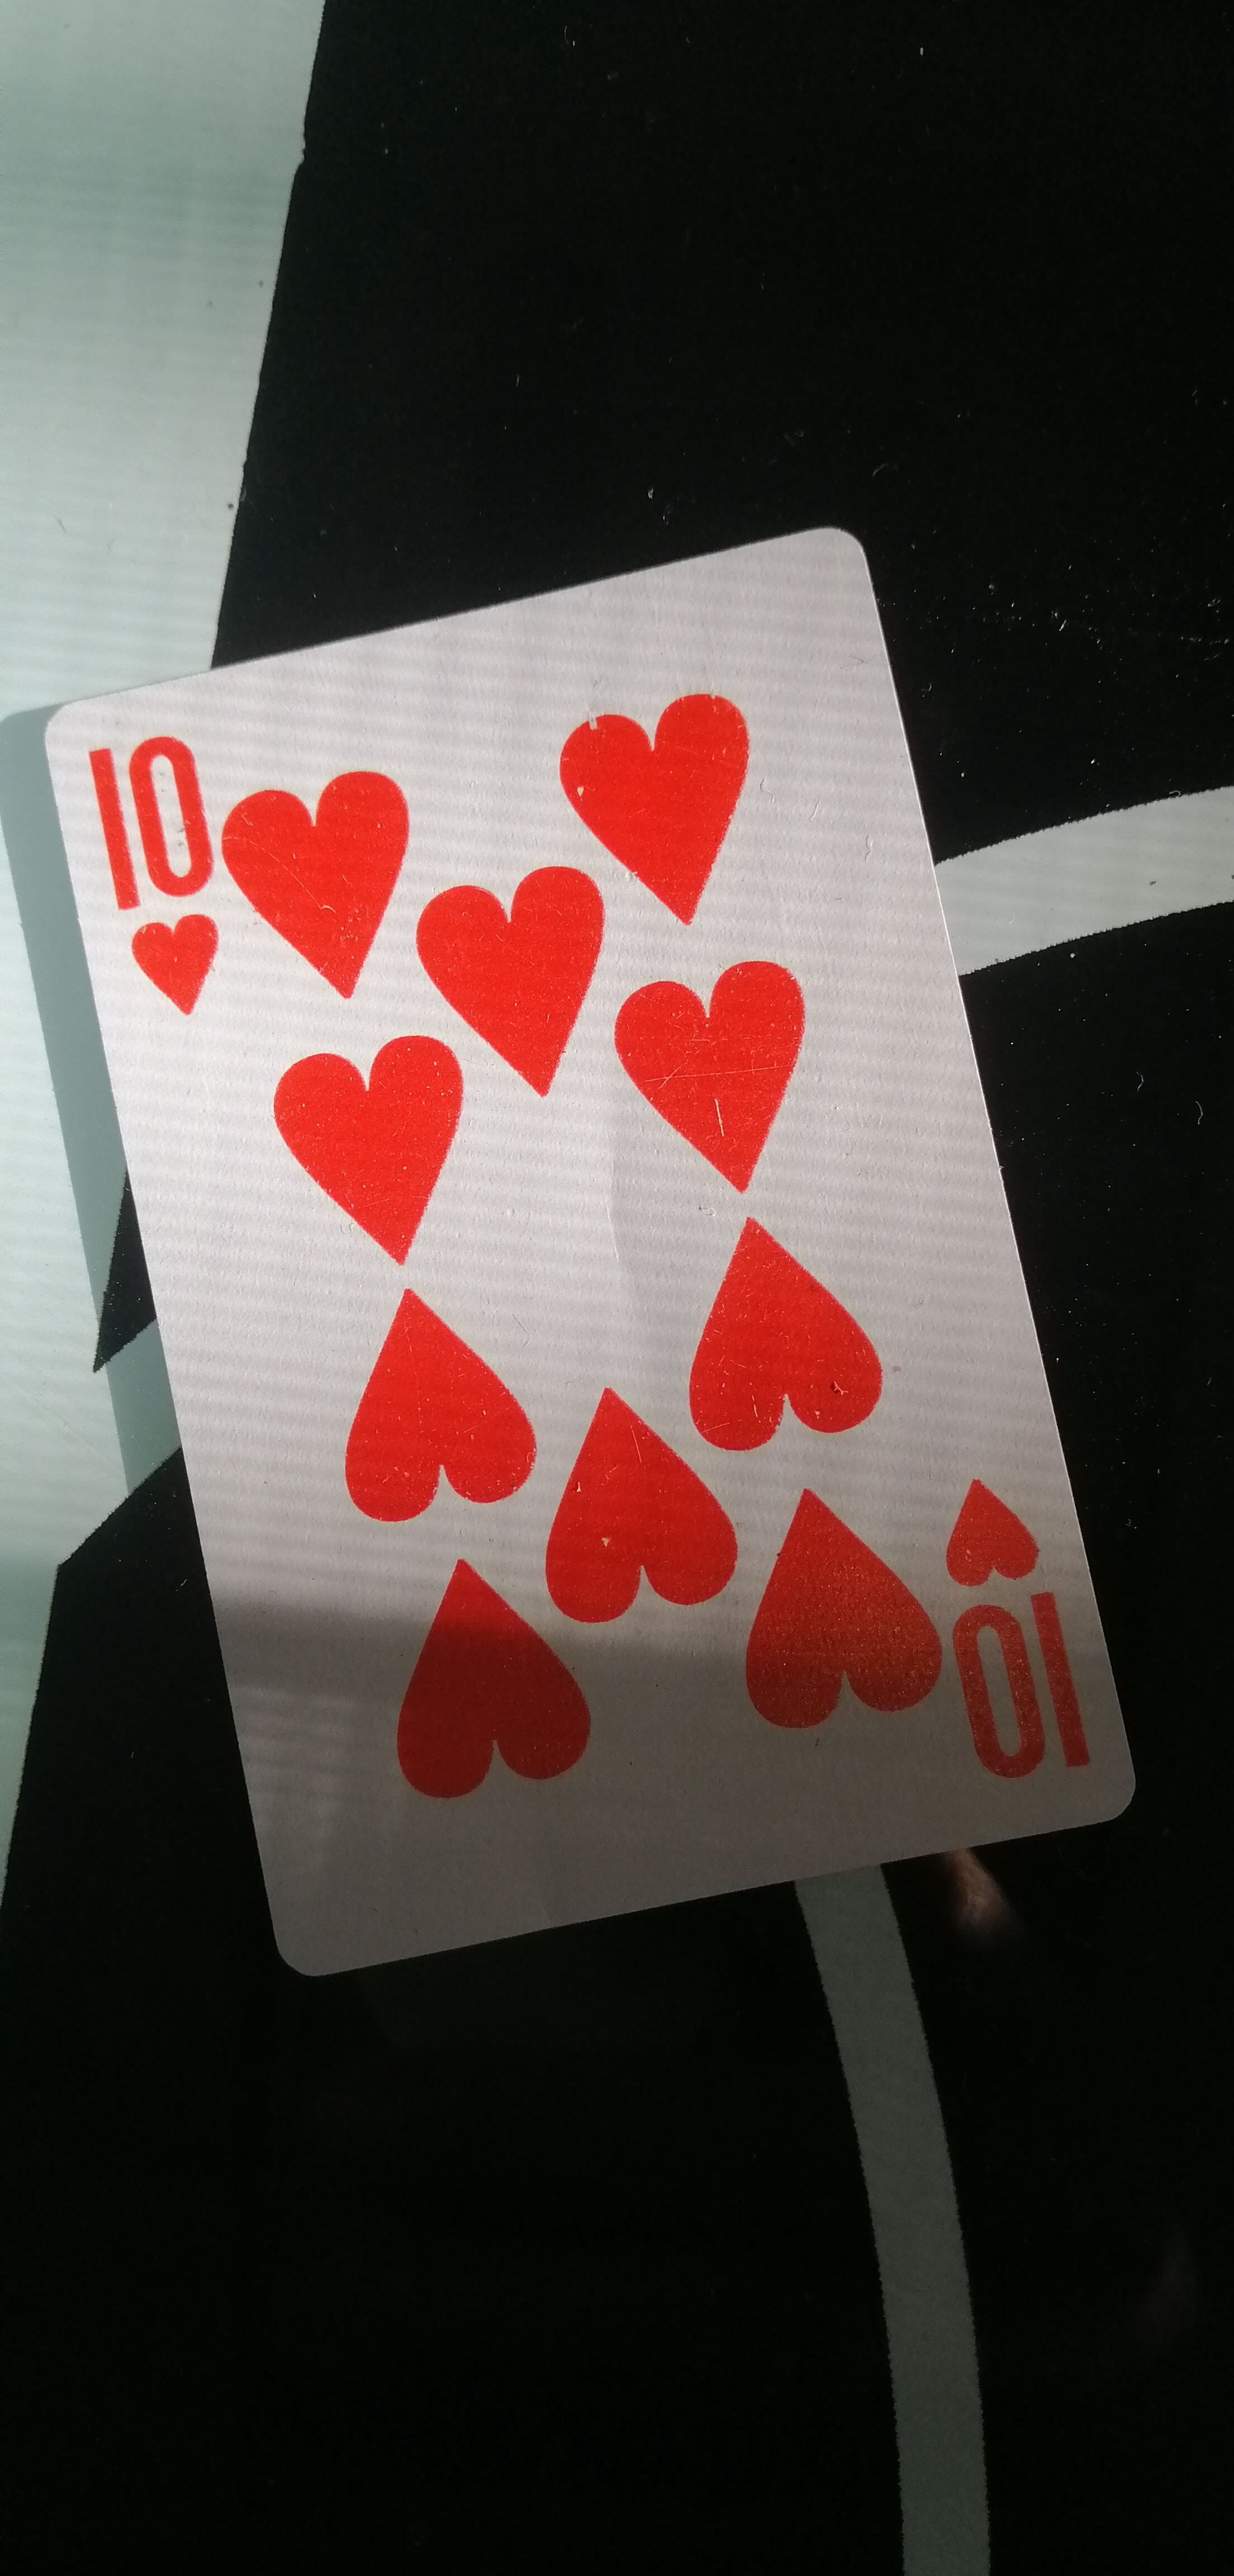ten: (0, 519, 1152, 1994)
